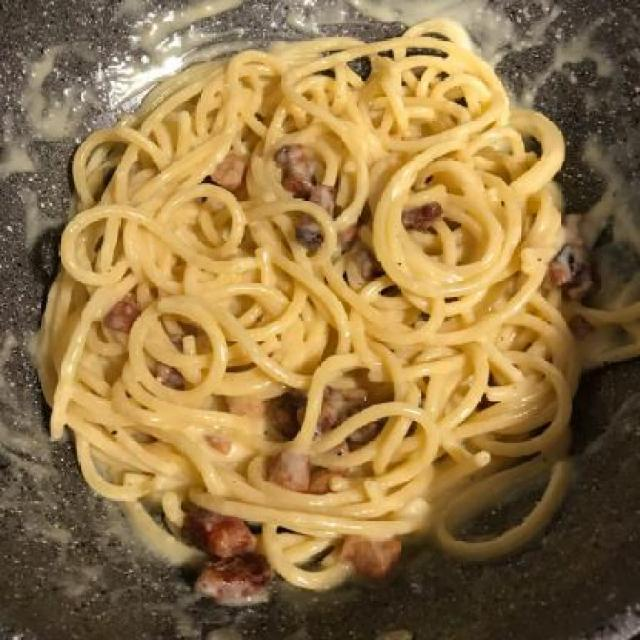Pasta with carbonara sauce: (26, 24, 591, 580)
